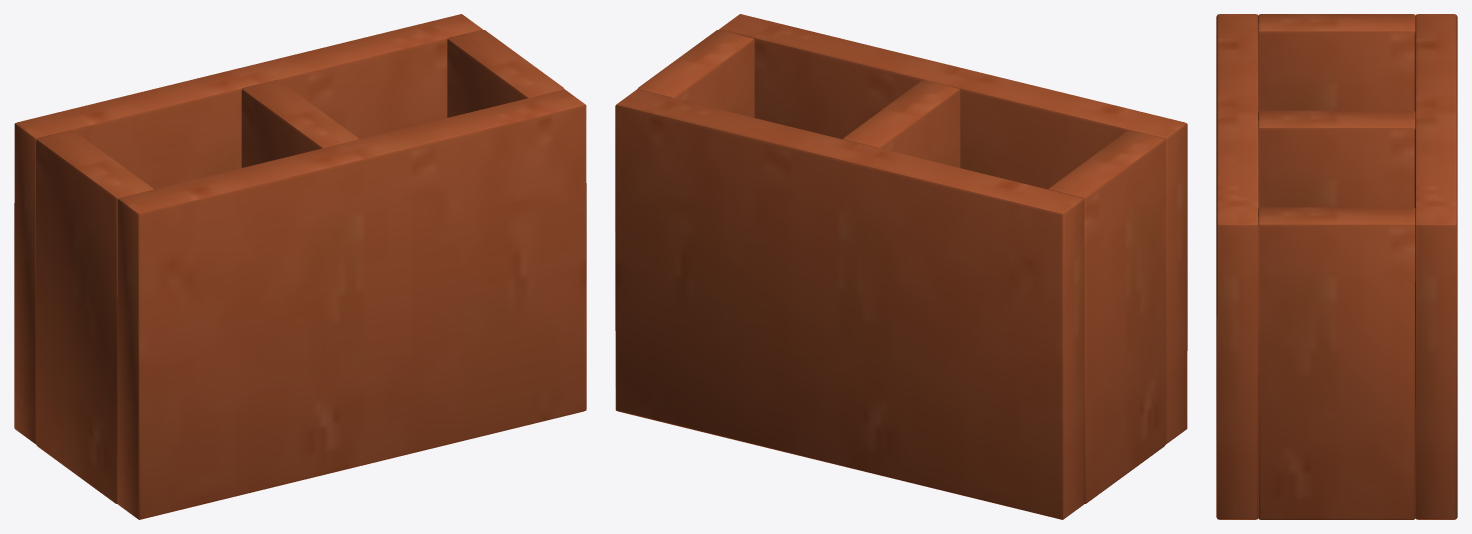
Rendered from ALV-BLC-006_lod1.glb.
3 renders of one model, left to right at view 1: azimuth 30°, elevation 25°; view 2: azimuth 150°, elevation 25°; view 3: azimuth 270°, elevation 25°, orthographic. The views are drawn at different scales.
Parts seen in each view (by area): view 1: ALV-BLC-006_pf1, ALV-BLC-006_pf2, ALV-BLC-006_t0, ALV-BLC-006_t1, ALV-BLC-006_t2; view 2: ALV-BLC-006_pf2, ALV-BLC-006_pf1, ALV-BLC-006_t0, ALV-BLC-006_t1, ALV-BLC-006_t2; view 3: ALV-BLC-006_t2, ALV-BLC-006_pf1, ALV-BLC-006_pf2, ALV-BLC-006_t1, ALV-BLC-006_t0.
Part boxes in pixels (x1,y1,x2,y2): ALV-BLC-006_pf1: (117, 89, 586, 519); ALV-BLC-006_pf2: (14, 14, 482, 444); ALV-BLC-006_t0: (36, 130, 153, 503); ALV-BLC-006_t1: (241, 80, 358, 167); ALV-BLC-006_t2: (447, 29, 564, 117); ALV-BLC-006_pf2: (615, 89, 1084, 519); ALV-BLC-006_pf1: (719, 14, 1187, 444); ALV-BLC-006_t0: (1048, 130, 1165, 503); ALV-BLC-006_t1: (843, 80, 960, 167); ALV-BLC-006_t2: (637, 30, 754, 117); ALV-BLC-006_t2: (1258, 207, 1415, 519); ALV-BLC-006_pf1: (1216, 14, 1259, 519); ALV-BLC-006_pf2: (1414, 14, 1457, 519); ALV-BLC-006_t1: (1258, 110, 1415, 207); ALV-BLC-006_t0: (1258, 14, 1415, 110).
Bounding box in the file's own units: 0.29 × 0.19 × 0.14.
1 material, 1 textured.
